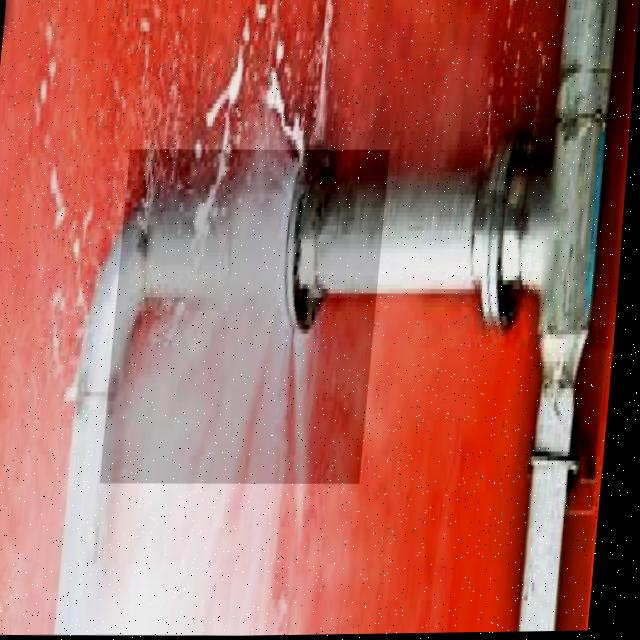corrosion: (96, 152, 390, 491)
